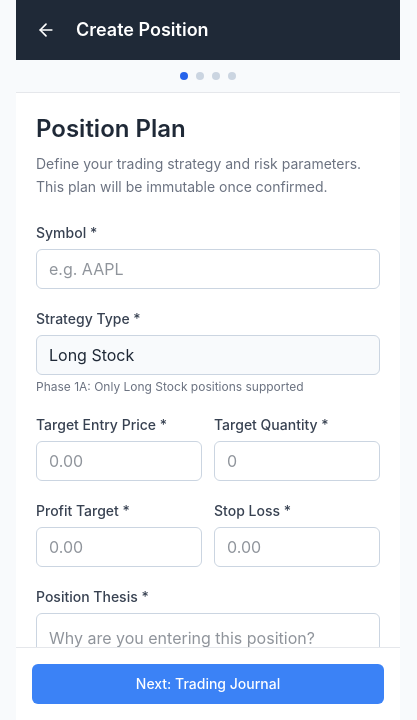
it: PositionCreate - Phase 1A: Position Creation Flow › Step 1: Position Plan › should validate required fields before proceeding to step 2
Step 1. Click the button "Next: Trading Journal" → (208, 684), box 32,664 -> 384,704
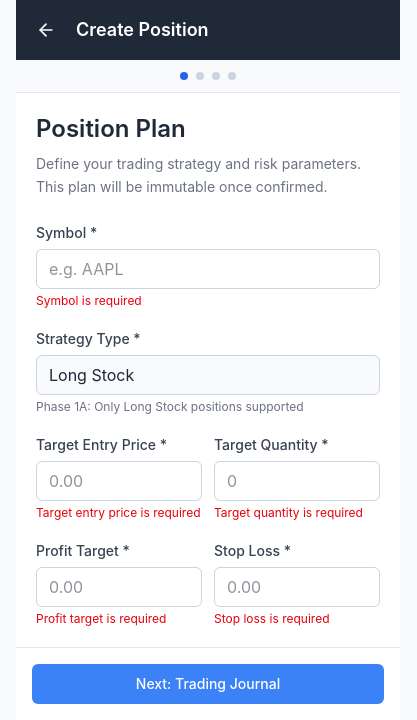
Expected: the text "Symbol is required" is shown, 36,292 -> 142,308
Expected: the text "Target entry price is required" is shown, 36,504 -> 202,520
Expected: the text "Target quantity is required" is shown, 214,504 -> 380,520
